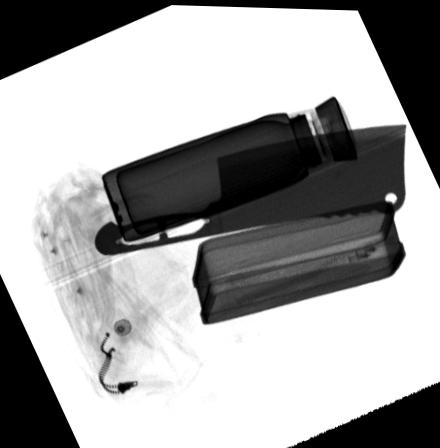Knife: (94, 120, 407, 256)
